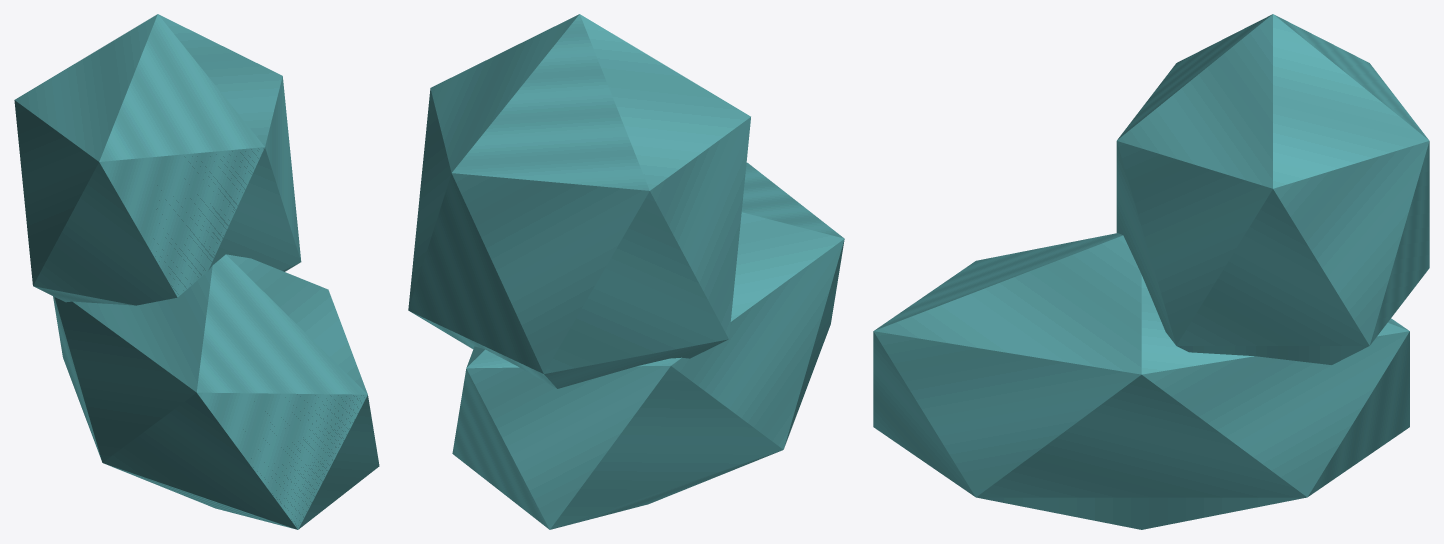
File: bounce_life.glb
3 views of the same model, side by side, from view 1: azimuth 30°, elevation 25°; view 2: azimuth 150°, elevation 25°; view 3: azimuth 270°, elevation 25° (orthographic). The views are drawn at different scales.
Visible parts, largest first — view 1: gear_bounce_life; view 2: gear_bounce_life; view 3: gear_bounce_life.
Boxes of the visible parts, x1,y1,x2,y2 form: gear_bounce_life: [14, 14, 379, 529]; gear_bounce_life: [408, 14, 844, 529]; gear_bounce_life: [873, 14, 1429, 529].
Bounding box in the file's own units: 0.1878 × 0.325 × 0.3174.
1 material, 1 textured.
